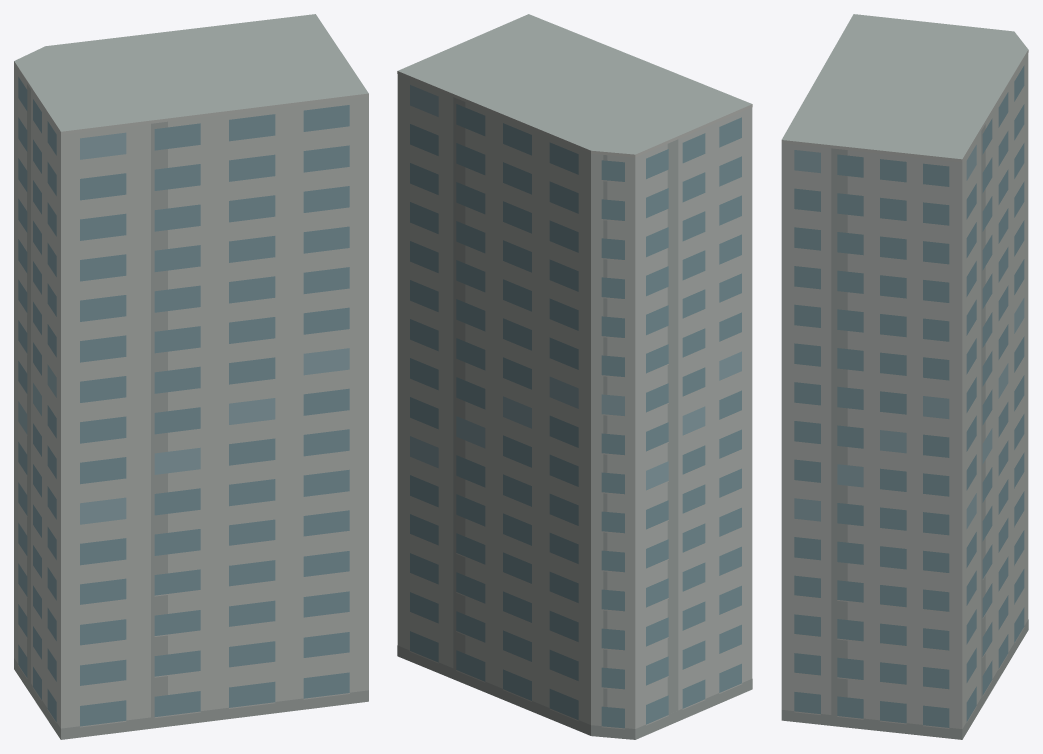
File: survey-upis-32773694.glb
3 views of the same model, side by side, from view 1: azimuth 30°, elevation 25°; view 2: azimuth 150°, elevation 25°; view 3: azimuth 270°, elevation 25° (orthographic). The views are drawn at different scales.
Visible parts, largest first — view 1: survey-upis-32773694.tmp; view 2: survey-upis-32773694.tmp; view 3: survey-upis-32773694.tmp.
Boxes of the visible parts, bbox=[...] form: survey-upis-32773694.tmp: bbox=[14, 14, 368, 739]; survey-upis-32773694.tmp: bbox=[397, 14, 752, 739]; survey-upis-32773694.tmp: bbox=[781, 14, 1028, 739].
Size of the model in its own units: 24.56 by 45.75 by 17.64.
